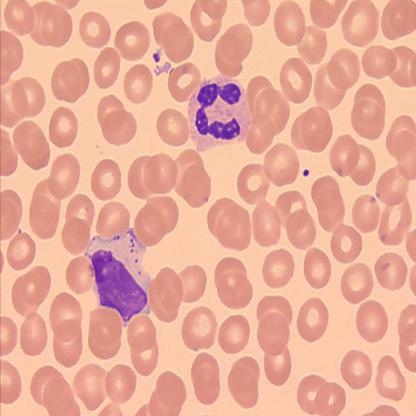Atypical lymphocyte: (83, 223, 154, 330)
